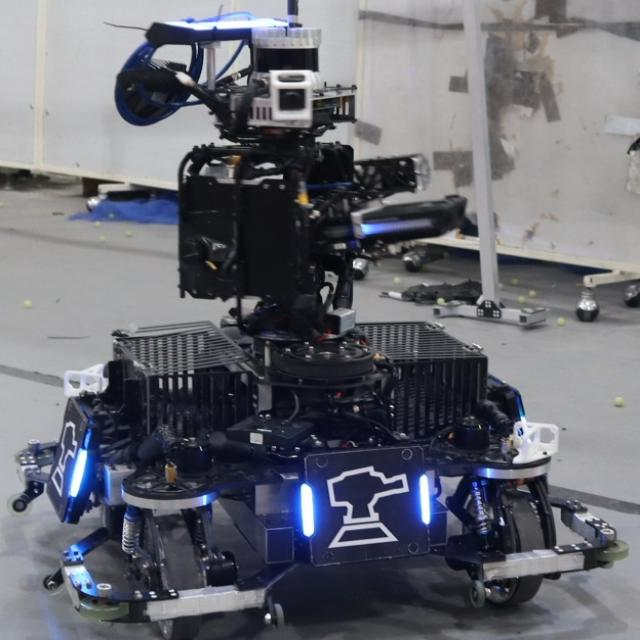Bs: (300, 442, 432, 567), (40, 395, 95, 524)
